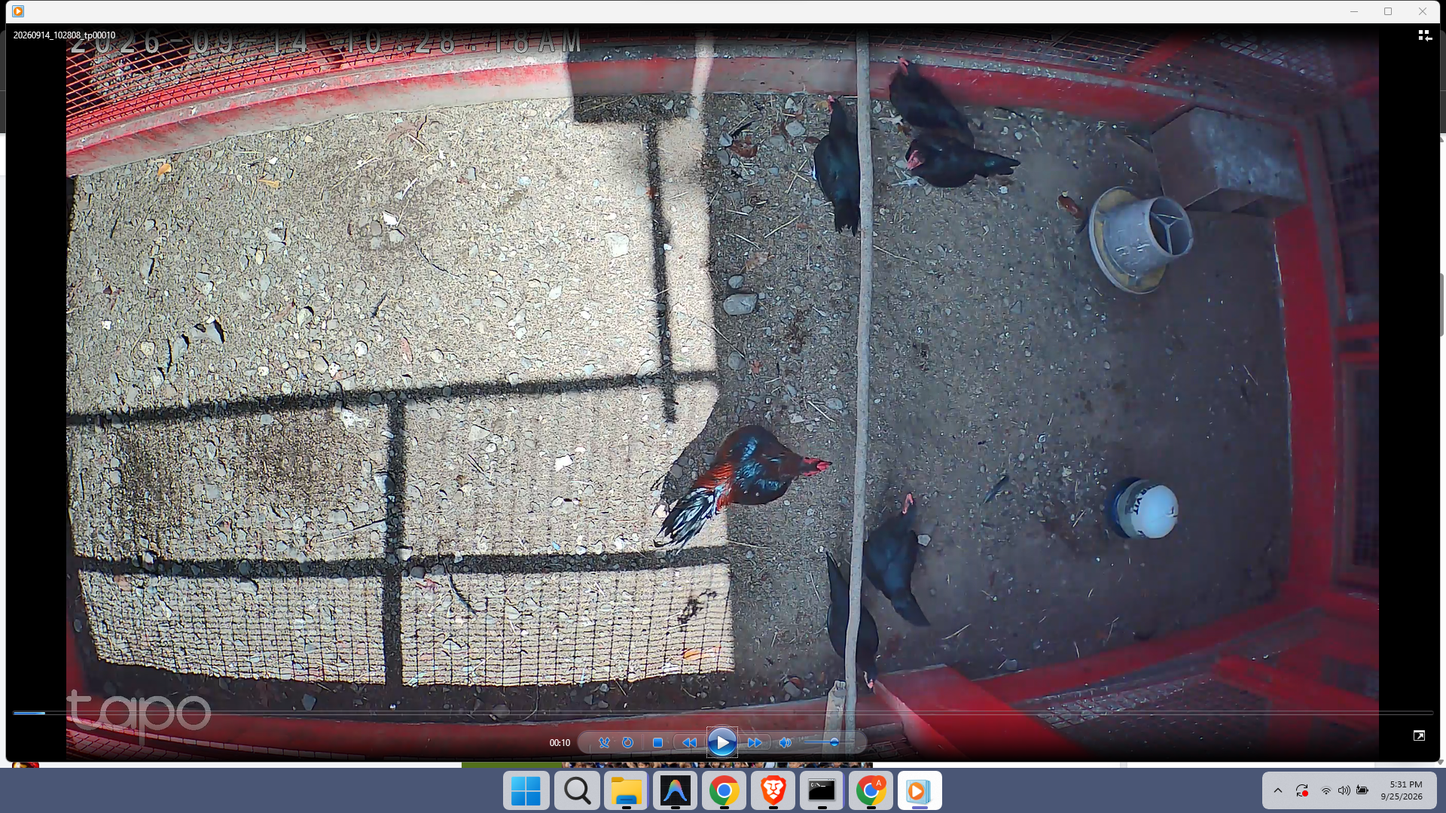Chicken: (863, 485, 937, 634), (816, 548, 883, 696), (876, 53, 979, 144), (805, 94, 861, 237), (880, 138, 1016, 192)
Drinker: (1104, 474, 1184, 542)
Feeder: (1087, 184, 1195, 297)
Rooster: (652, 422, 840, 546)
